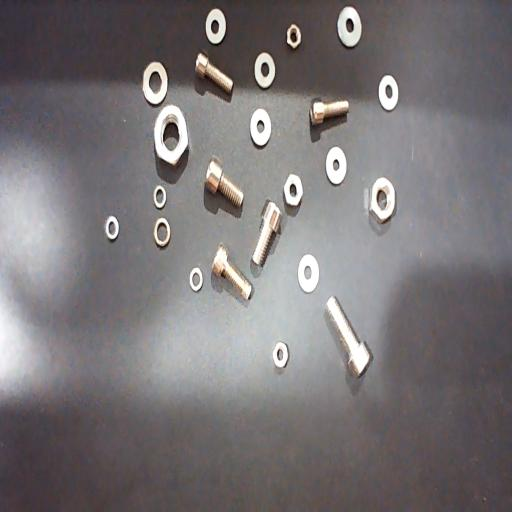nut: (153, 104, 189, 168), (369, 176, 396, 224), (283, 173, 303, 208), (272, 341, 290, 370), (286, 24, 301, 50)
screw: (324, 296, 371, 378), (212, 244, 252, 302), (252, 200, 282, 267), (205, 157, 244, 207), (195, 49, 233, 93), (309, 97, 349, 126)
washer: (142, 60, 168, 106), (337, 5, 362, 48), (249, 107, 272, 147), (325, 145, 347, 185), (297, 254, 319, 294), (254, 52, 276, 90), (378, 74, 399, 112), (206, 7, 226, 45), (153, 216, 171, 248), (105, 215, 120, 241), (189, 266, 203, 292), (152, 184, 166, 209)
